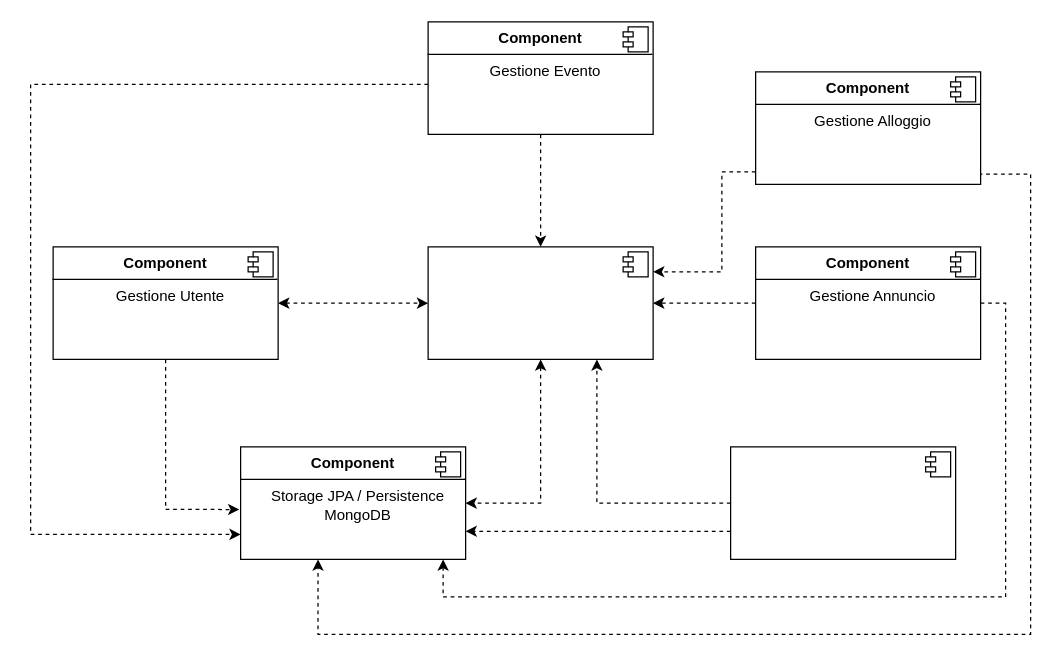
Image size: 1063x666. Some labels were removed from this diagram. Each missing label, with the centre of its shape:
Component Comunicazione: pixel 540 302
Component Gestione Corso: pixel 842 502
